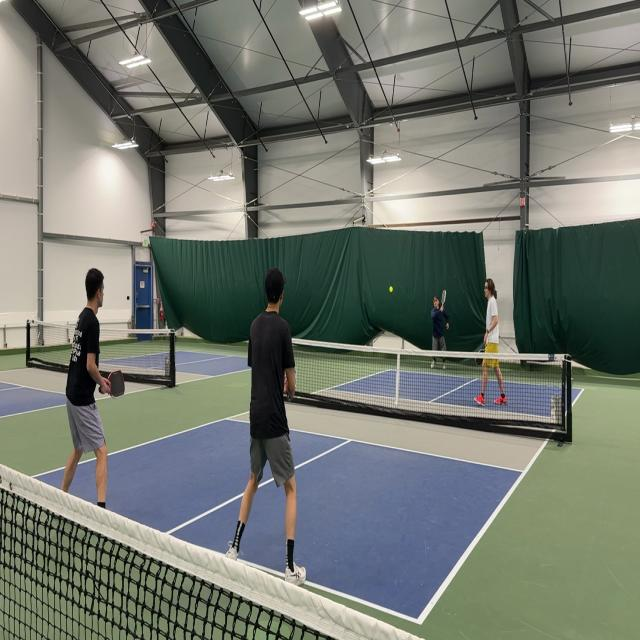ball: (389, 285, 393, 293)
